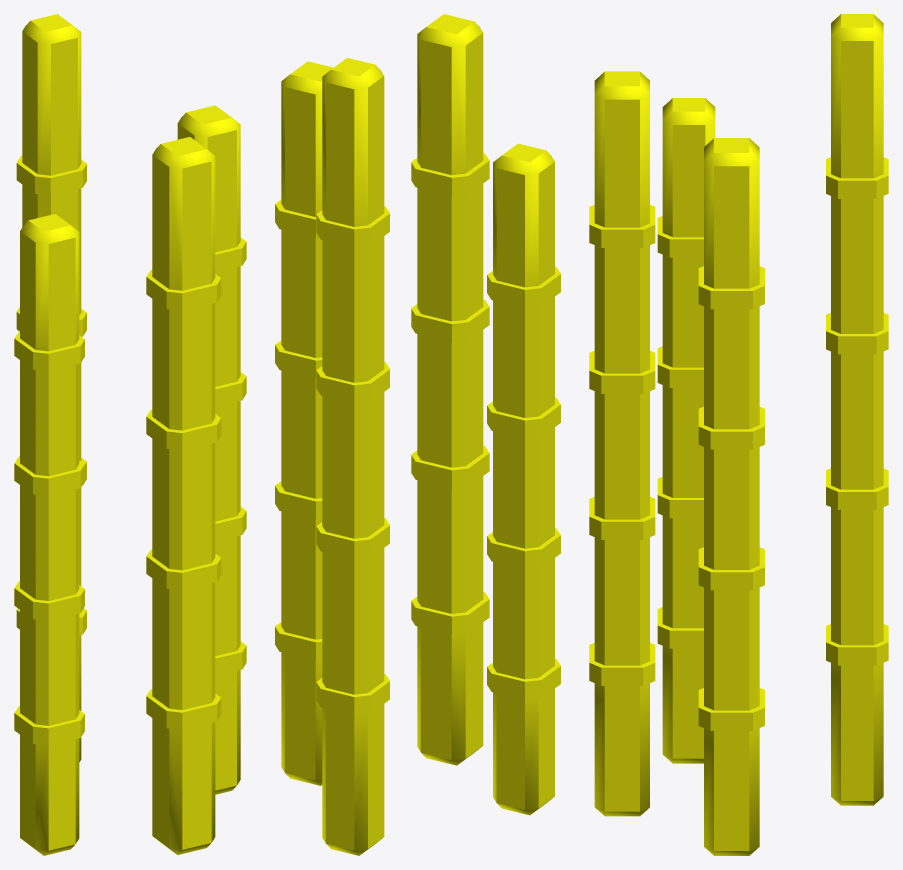
The model's file is Bamboo.glb.
3 views of the same model, side by side, from view 1: azimuth 30°, elevation 25°; view 2: azimuth 150°, elevation 25°; view 3: azimuth 270°, elevation 25° (orthographic). The views are drawn at different scales.
Parts seen in each view (by area): view 1: Bamboo; view 2: Bamboo; view 3: Bamboo.
Boxes of the visible parts, left/top/right/bottom form: Bamboo: left=14, top=14, right=246, bottom=855; Bamboo: left=275, top=14, right=560, bottom=855; Bamboo: left=589, top=14, right=888, bottom=855.
Size of the model in its own units: 1.46 by 4.44 by 1.55.
Materials: 1 (1 with a texture image).
